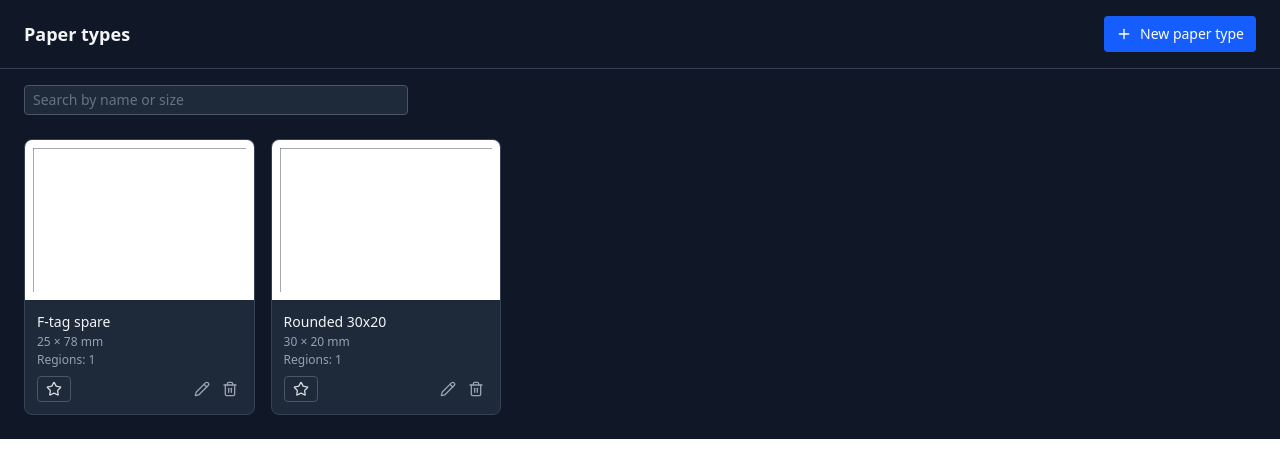
it: PaperTypeSection › sets the default paper type in the store
expect the text "F-tag spare" is shown: met, box left=37, top=312, right=110, bottom=332
Click the button named "Set as default" below "25 × 78 mm".
click(54, 389)  # box left=37, top=376, right=71, bottom=402
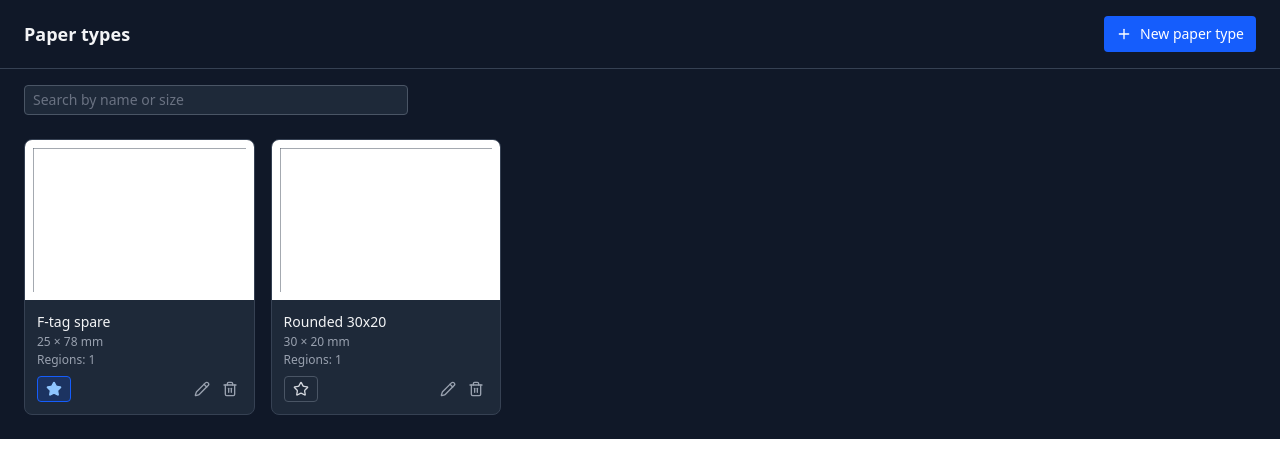
expect the button named "Default for new labels" is disabled: met, box left=37, top=376, right=71, bottom=402
